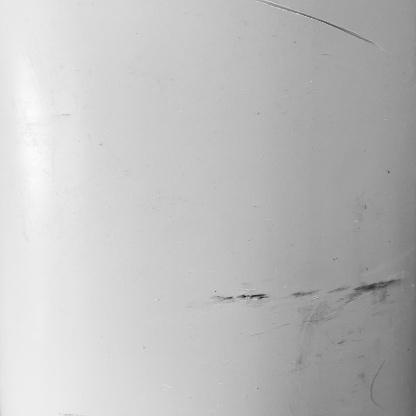sunshang: (260, 1, 384, 51)
